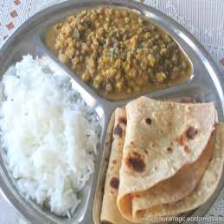rice: (0, 55, 101, 217)
